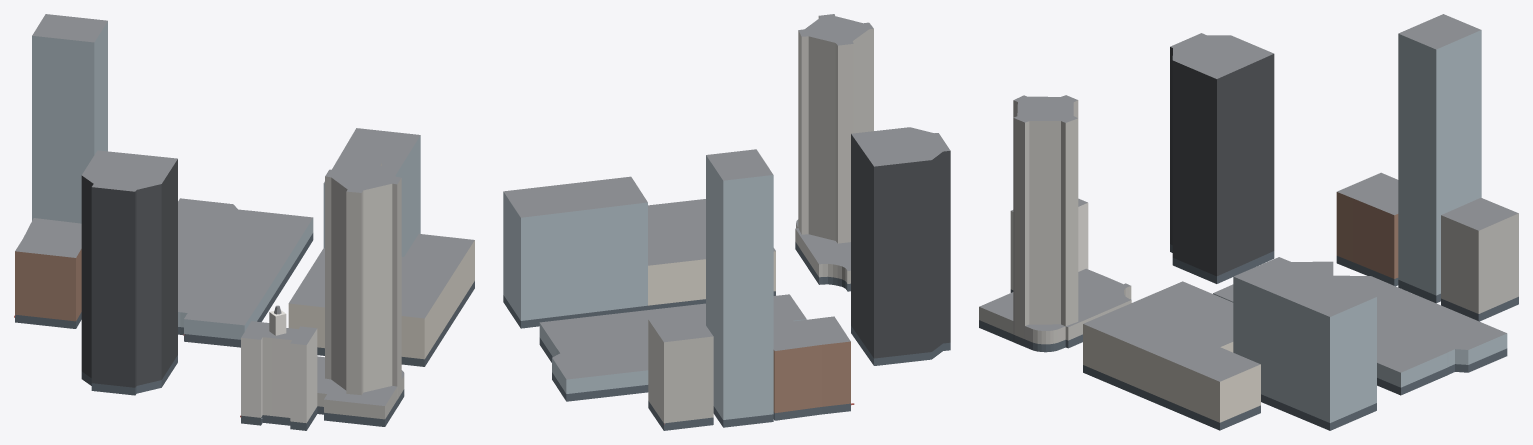
File: hero-granville-georgia.glb
3 renders of one model, left to right at view 1: azimuth 30°, elevation 25°; view 2: azimuth 150°, elevation 25°; view 3: azimuth 270°, elevation 25°, orthographic. The views are drawn at different scales.
Visible parts, largest first — view 1: TD Tower, 700 West Georgia_upper, Scotia Tower, 650 West Georgia_upper, Pacific Centre, 701 West Georgia_upper, Private Residences at Hotel Georgia_upper, Hudson's Bay, 674 Granville_upper, Vancouver Block, 736 Granville_upper, Rosewood Hotel Georgia, 801 West Georgia_upper, The Hudson, 610 Granville_upper, Vancouver Centre, 650 West Georgia_upper, Pacific Centre, 701 West Georgia_ground, TD Tower, 700 West Georgia_ground, Vancouver Centre, 650 West Georgia_ground (+3 smaller); view 2: TD Tower, 700 West Georgia_upper, The Hudson, 610 Granville_upper, Private Residences at Hotel Georgia_upper, Scotia Tower, 650 West Georgia_upper, Pacific Centre, 701 West Georgia_upper, Rosewood Hotel Georgia, 801 West Georgia_upper, Metropolitan Hotel, 645 Howe_upper, Hudson's Bay, 674 Granville_upper, Vancouver Centre, 650 West Georgia_upper, Pacific Centre, 701 West Georgia_ground, TD Tower, 700 West Georgia_ground, The Hudson, 610 Granville_ground (+4 smaller); view 3: TD Tower, 700 West Georgia_upper, Private Residences at Hotel Georgia_upper, The Hudson, 610 Granville_upper, Hudson's Bay, 674 Granville_upper, Scotia Tower, 650 West Georgia_upper, Pacific Centre, 701 West Georgia_upper, Metropolitan Hotel, 645 Howe_upper, Rosewood Hotel Georgia, 801 West Georgia_upper, Vancouver Centre, 650 West Georgia_upper, Hudson's Bay, 674 Granville_ground, Pacific Centre, 701 West Georgia_ground, Vancouver Block, 736 Granville_upper (+4 smaller).
Boxes of the visible parts, x1,y1,x2,y2 form: TD Tower, 700 West Georgia_upper: [81, 150, 177, 387]; Scotia Tower, 650 West Georgia_upper: [325, 160, 401, 399]; Pacific Centre, 701 West Georgia_upper: [178, 198, 313, 339]; Private Residences at Hotel Georgia_upper: [32, 14, 107, 223]; Hudson's Bay, 674 Granville_upper: [288, 234, 474, 359]; Vancouver Block, 736 Granville_upper: [241, 321, 317, 423]; Rosewood Hotel Georgia, 801 West Georgia_upper: [15, 218, 81, 321]; The Hudson, 610 Granville_upper: [323, 128, 420, 256]; Vancouver Centre, 650 West Georgia_upper: [317, 356, 404, 419]; Pacific Centre, 701 West Georgia_ground: [178, 233, 313, 347]; TD Tower, 700 West Georgia_ground: [81, 355, 177, 395]; Vancouver Centre, 650 West Georgia_ground: [317, 389, 404, 426]; TD Tower, 700 West Georgia_upper: [851, 127, 950, 358]; The Hudson, 610 Granville_upper: [503, 176, 647, 320]; Private Residences at Hotel Georgia_upper: [706, 149, 773, 419]; Scotia Tower, 650 West Georgia_upper: [798, 14, 873, 243]; Pacific Centre, 701 West Georgia_upper: [539, 294, 806, 393]; Rosewood Hotel Georgia, 801 West Georgia_upper: [773, 316, 850, 413]; Metropolitan Hotel, 645 Howe_upper: [648, 313, 713, 423]; Hudson's Bay, 674 Granville_upper: [648, 199, 775, 305]; Vancouver Centre, 650 West Georgia_upper: [795, 219, 850, 283]; Pacific Centre, 701 West Georgia_ground: [539, 337, 648, 401]; TD Tower, 700 West Georgia_ground: [851, 326, 950, 365]; The Hudson, 610 Granville_ground: [503, 295, 647, 328]; TD Tower, 700 West Georgia_upper: [1170, 33, 1274, 276]; Private Residences at Hotel Georgia_upper: [1398, 14, 1481, 295]; The Hudson, 610 Granville_upper: [1233, 257, 1376, 422]; Hudson's Bay, 674 Granville_upper: [1083, 281, 1260, 422]; Scotia Tower, 650 West Georgia_upper: [1013, 95, 1078, 338]; Pacific Centre, 701 West Georgia_upper: [1213, 261, 1507, 387]; Metropolitan Hotel, 645 Howe_upper: [1441, 198, 1518, 313]; Rosewood Hotel Georgia, 801 West Georgia_upper: [1336, 172, 1398, 278]; Vancouver Centre, 650 West Georgia_upper: [979, 268, 1131, 344]; Hudson's Bay, 674 Granville_ground: [1083, 365, 1260, 430]; Pacific Centre, 701 West Georgia_ground: [1377, 348, 1507, 395]; Vancouver Block, 736 Granville_upper: [1010, 198, 1088, 289].
Bounding box in the file's own units: 254 × 156 × 301.
